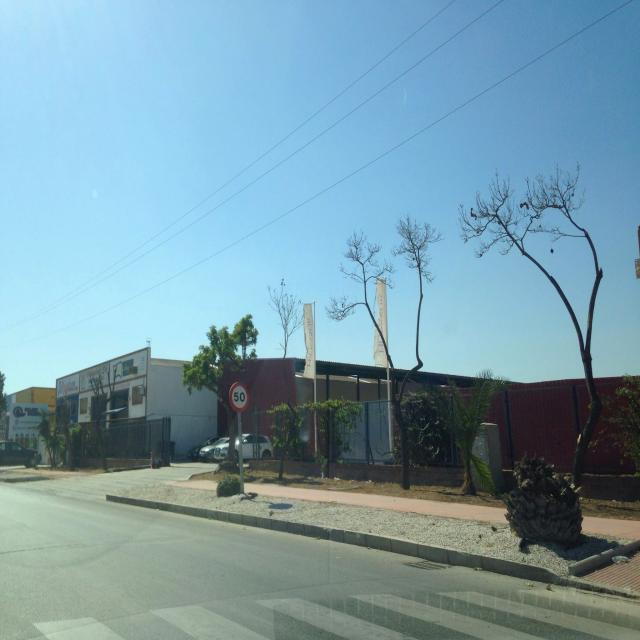car: (204, 433, 274, 463), (0, 440, 41, 468), (187, 436, 227, 461)
